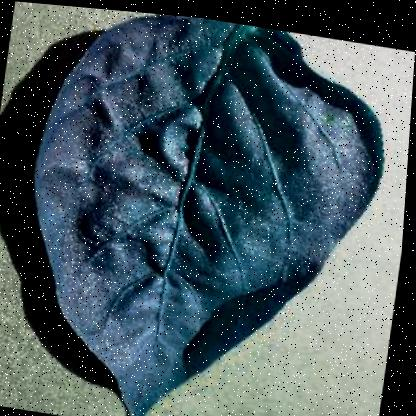Healthy: (4, 1, 408, 415)
